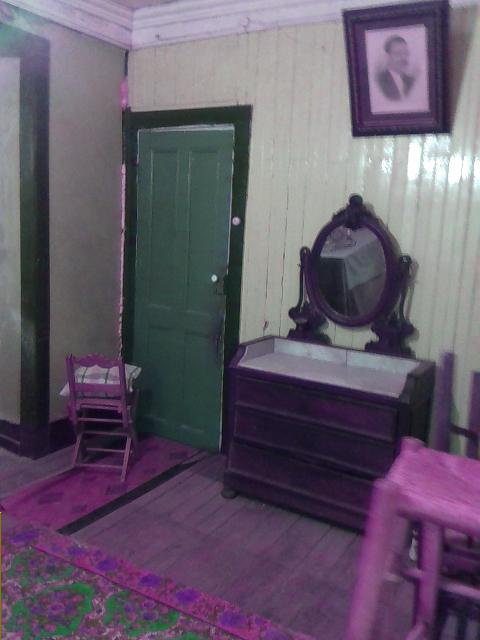closed_door: (118, 103, 252, 454)
